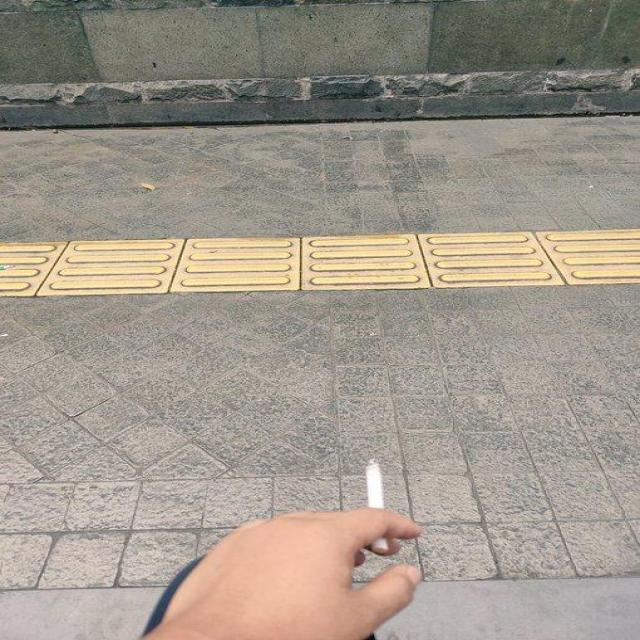rokok: (356, 451, 399, 557)
